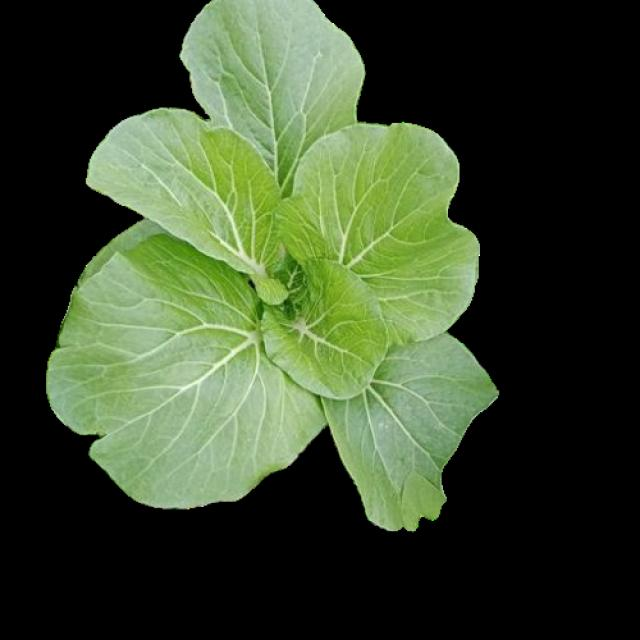healthy: (50, 4, 502, 534)
mature: (48, 1, 500, 531)
